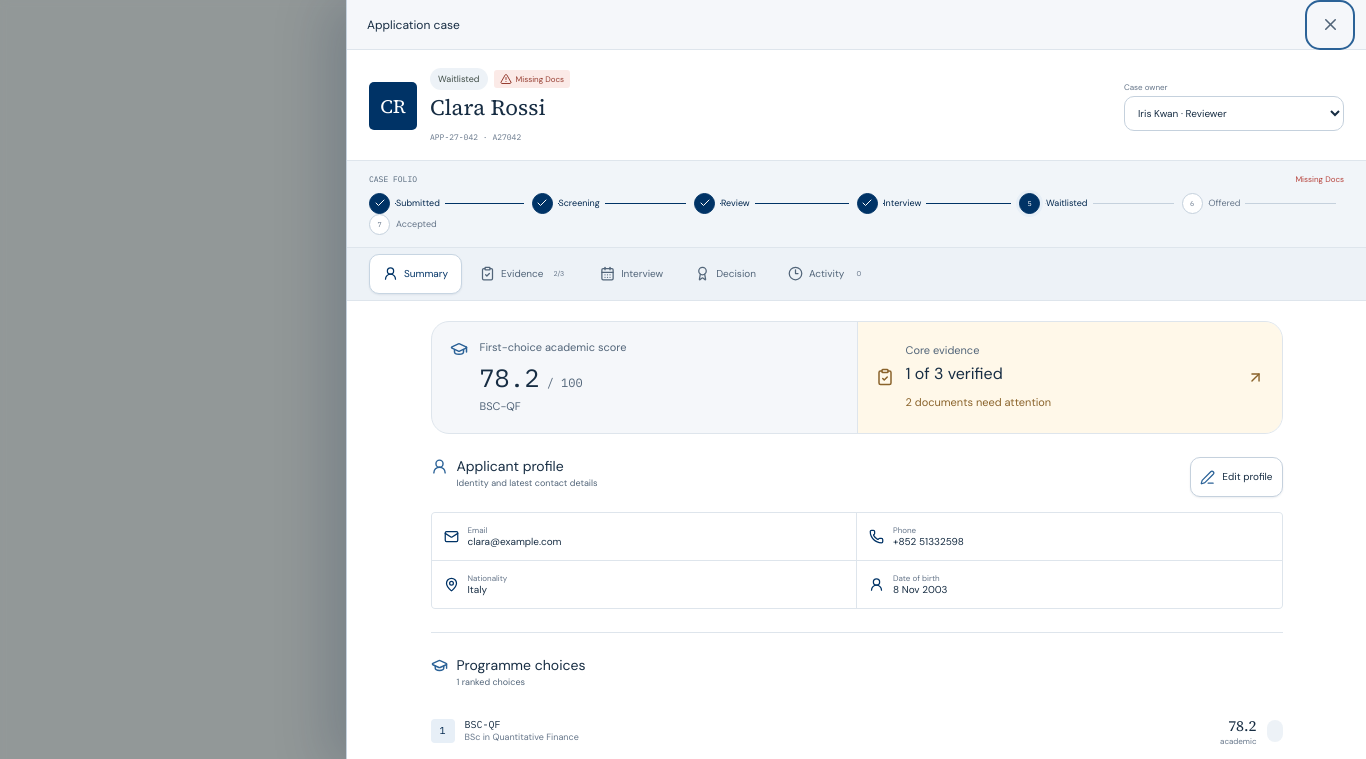
Test case: database-facing workspaces › renders the evidence, interview and decision case workflows without crashing
expect the heading "Clara Rossi" is shown: met, box [430, 92, 546, 122]
Click the tab "Evidence 2/3" at coordinates (524, 274), box [466, 254, 582, 294]
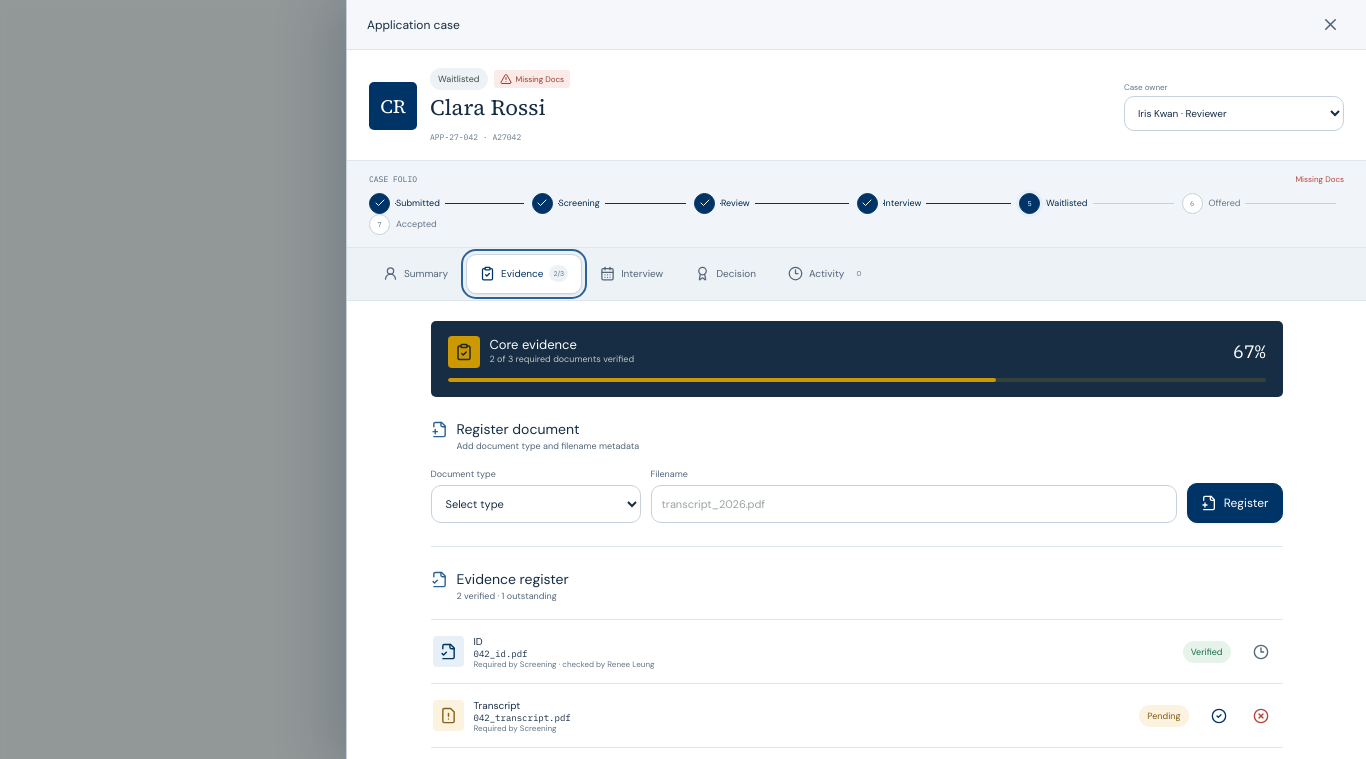
expect the heading "Evidence register" is shown: met, box [456, 570, 569, 588]
expect the button named "Mark ID pending" is shown: met, box [1240, 632, 1280, 672]
expect the button named "Verify Transcript" is shown: met, box [1198, 696, 1238, 736]
Click the tab "Interview" at coordinates (632, 274), box [586, 254, 677, 294]
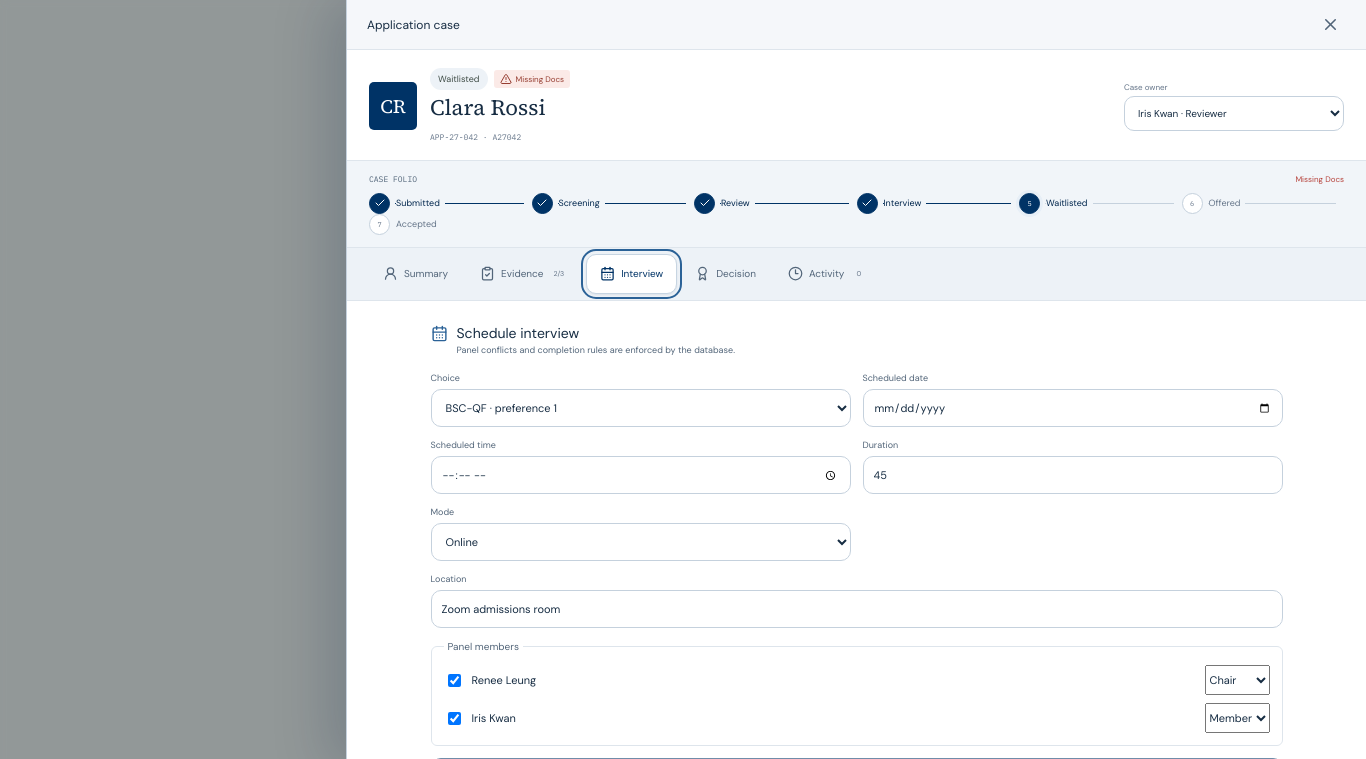
expect the heading "Schedule interview" is shown: met, box [456, 324, 579, 342]
Type "2026-11-09" into the date field labelled "Scheduled date" at coordinates (1072, 408), box [862, 389, 1282, 427]
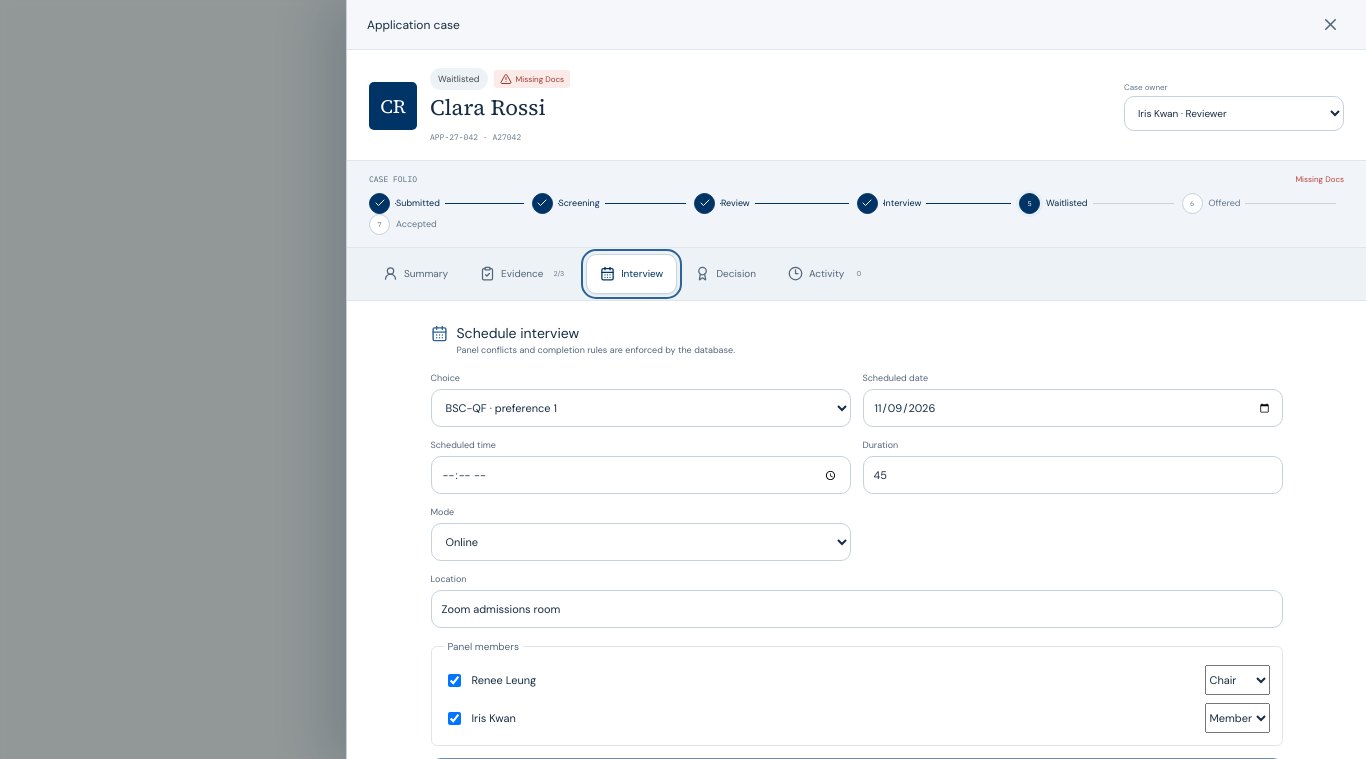
Type "10:00" into the time field labelled "Scheduled time" at coordinates (640, 475), box [430, 456, 850, 494]
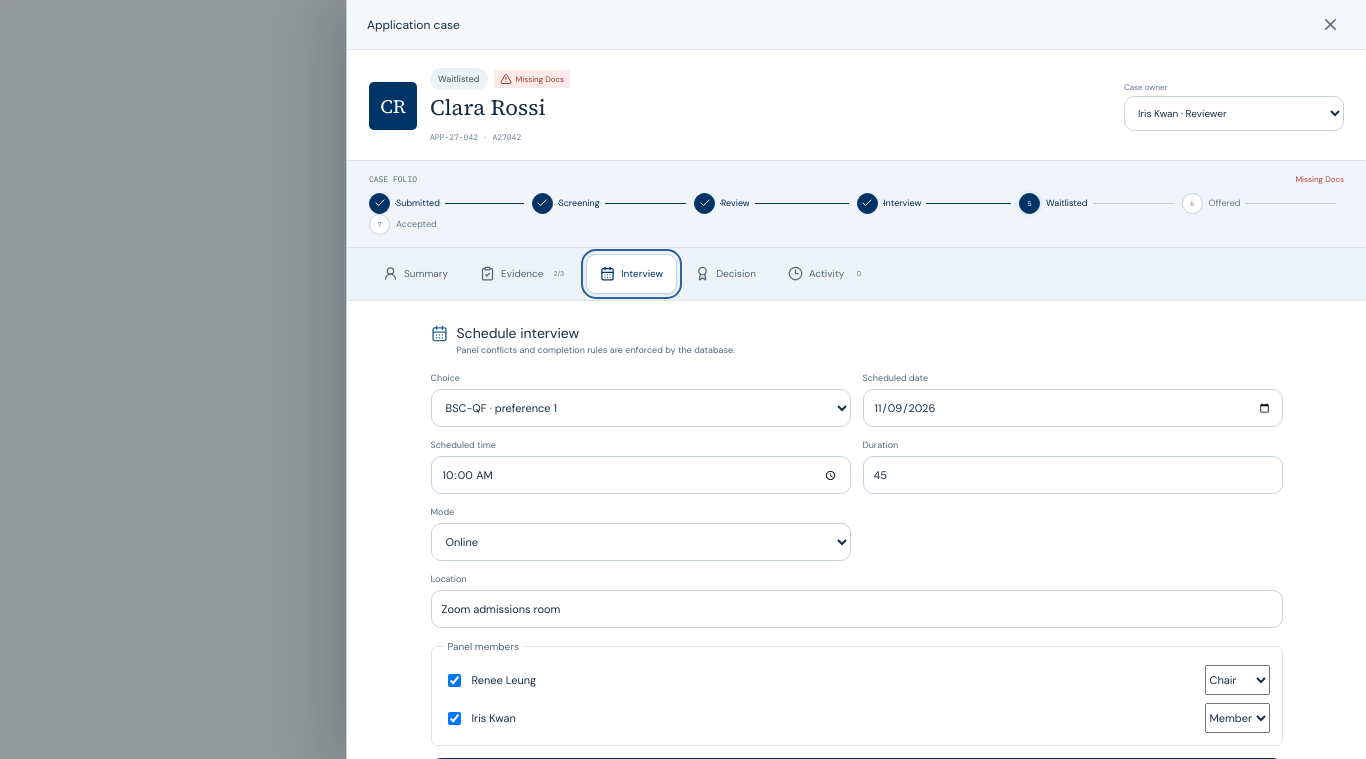
Click the tab "Decision" at coordinates (726, 274), box [681, 254, 770, 294]
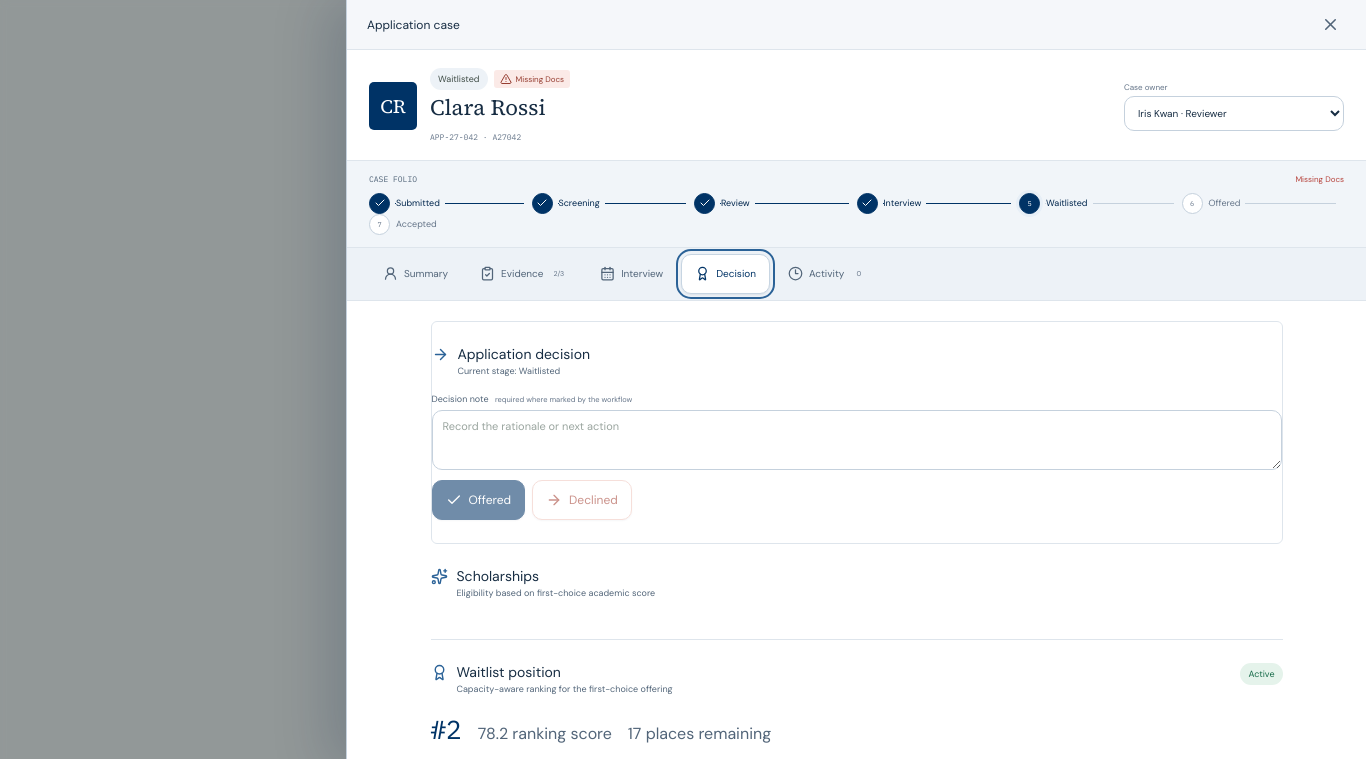
expect the heading "Application decision" is shown: met, box [458, 344, 590, 362]
expect the heading "Waitlist position" is shown: met, box [456, 663, 561, 681]
